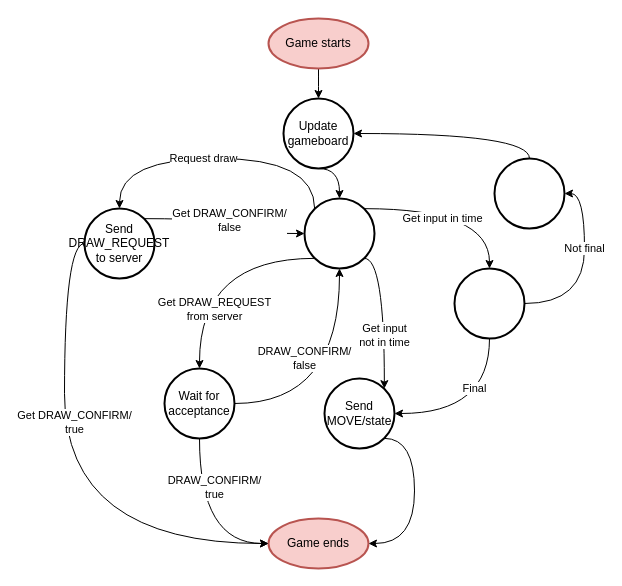
Some shapes in this 622 by 586 pixel diagram are drawn without their labels. Each missing label, with the box of its shape:
Check state: (453, 267, 525, 339)
Send MOVE: (493, 157, 565, 229)
Wait for input move: (303, 197, 375, 269)
